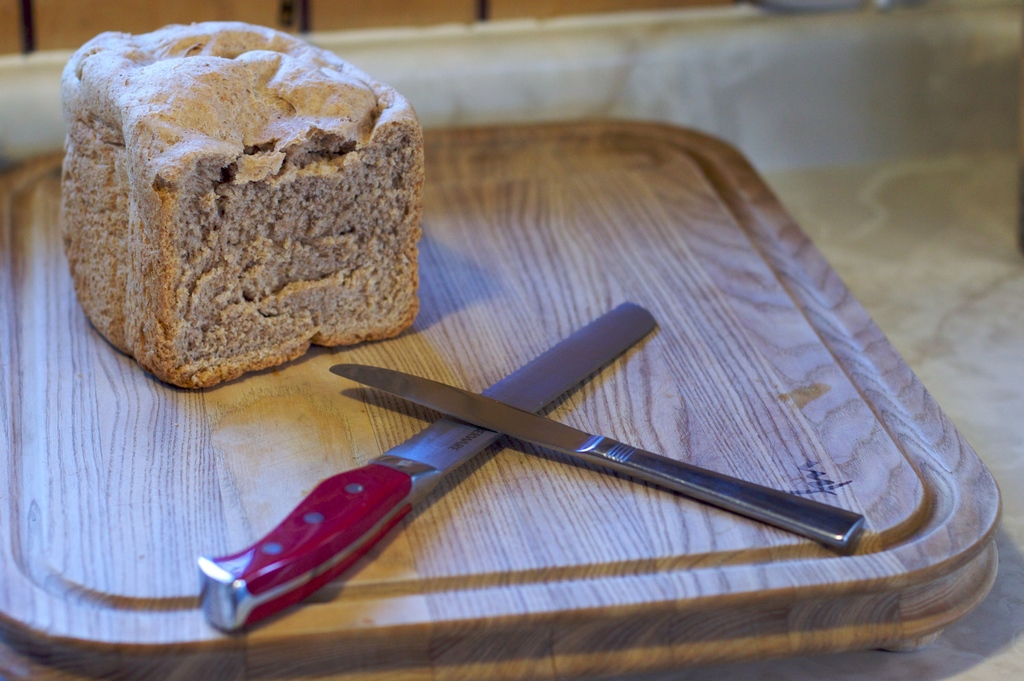kitchen knife: (330, 355, 868, 542)
